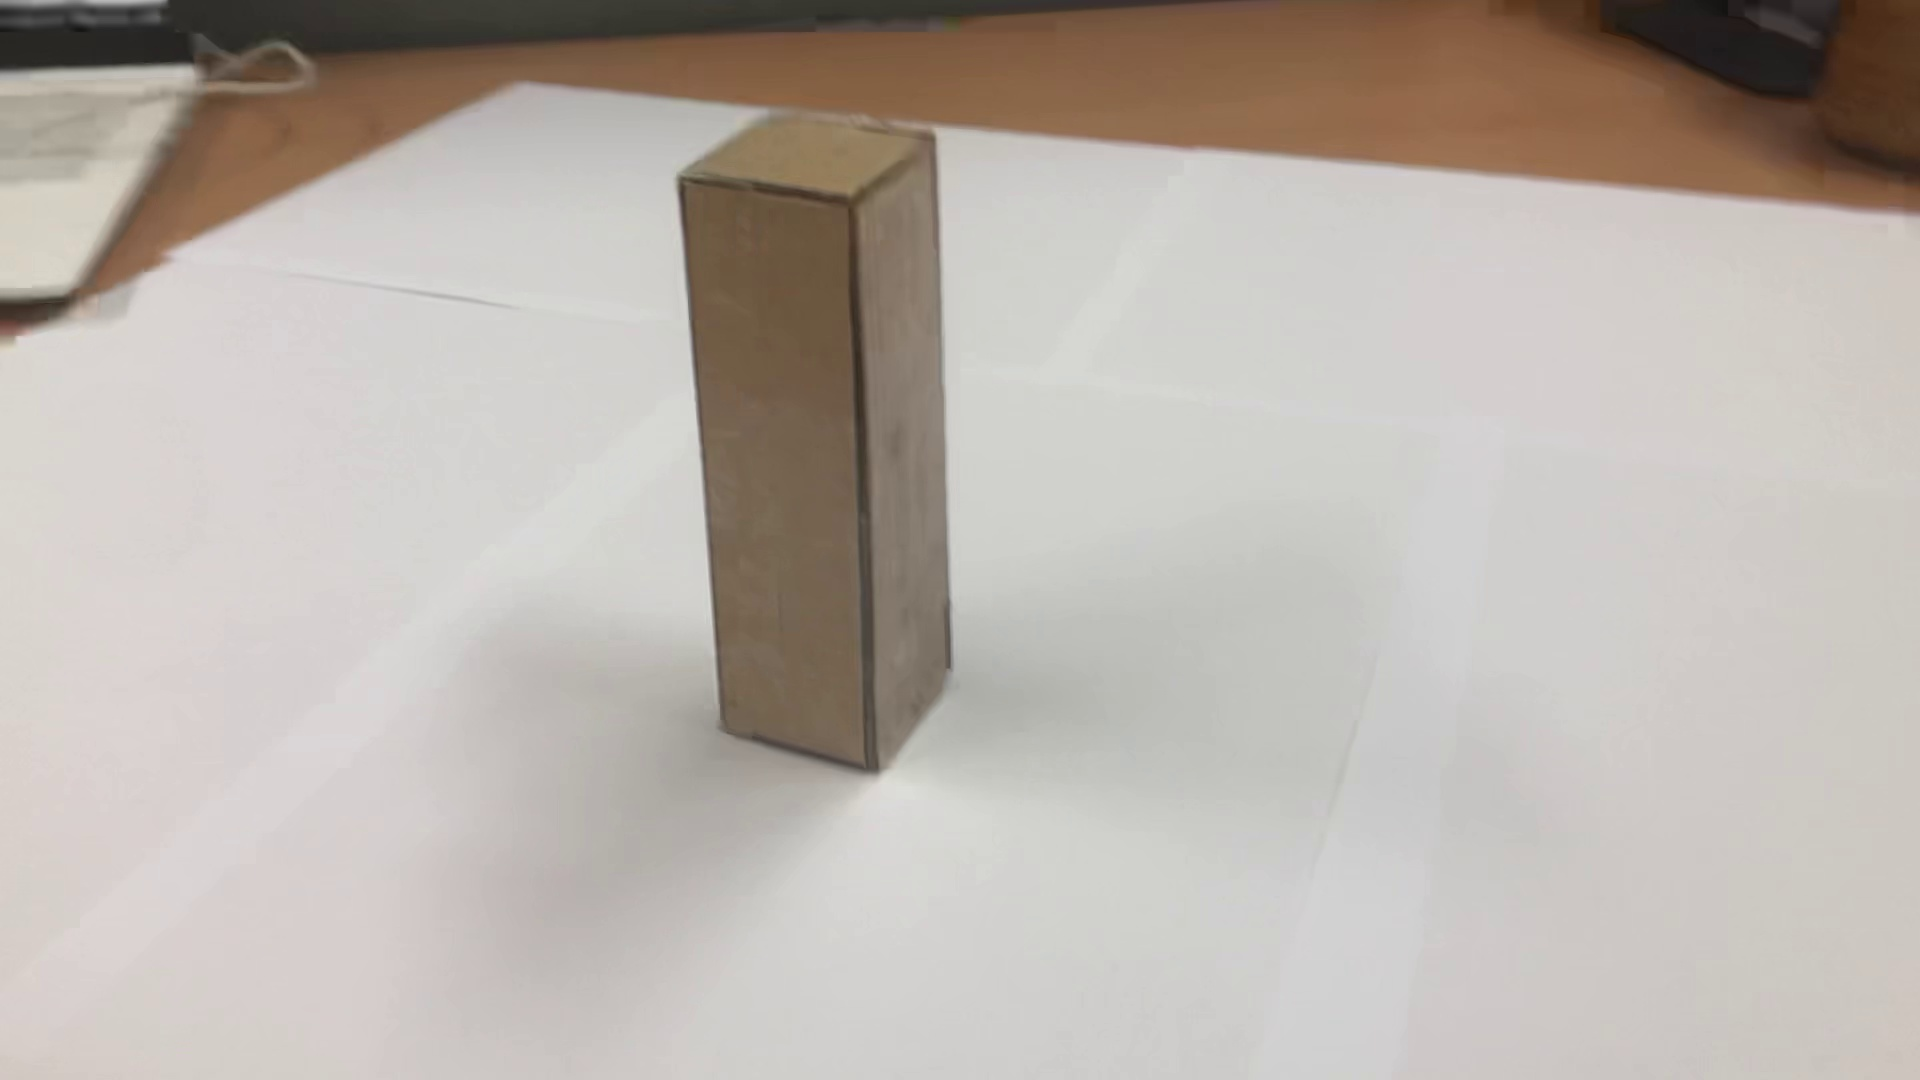box: (655, 88, 988, 814)
